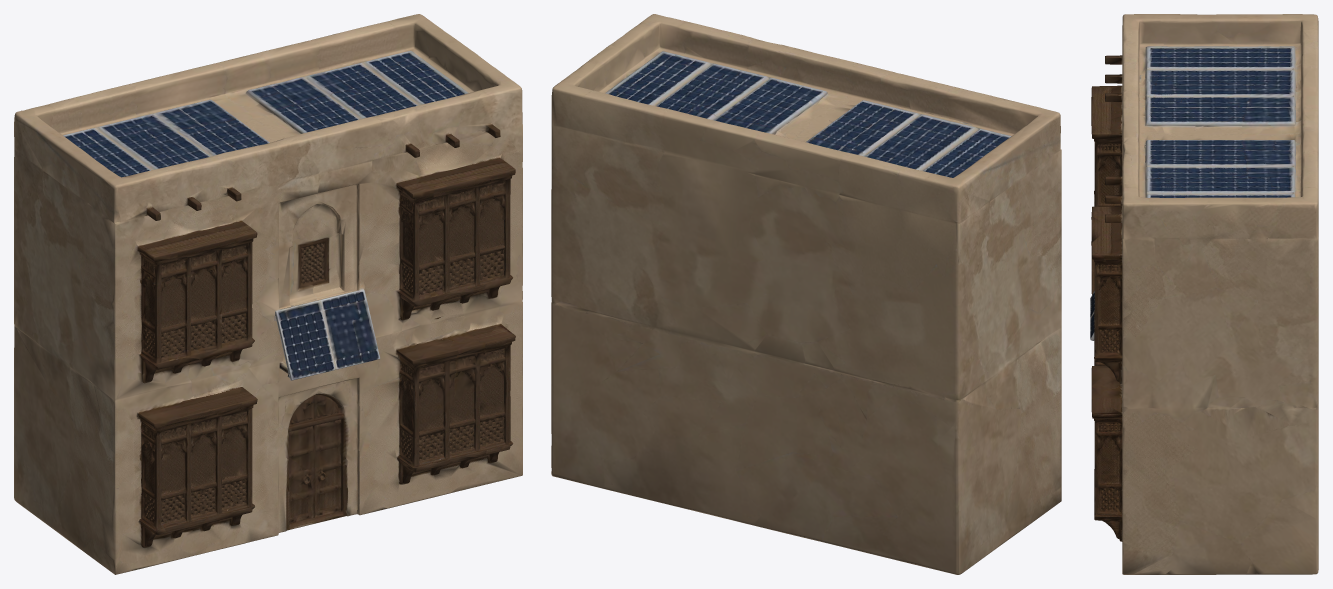
The model's file is heritage_lod1.glb.
3 views of the same model, side by side, from view 1: azimuth 30°, elevation 25°; view 2: azimuth 150°, elevation 25°; view 3: azimuth 270°, elevation 25° (orthographic). The views are drawn at different scales.
Visible parts, largest first — view 1: mesh_node; view 2: mesh_node; view 3: mesh_node.
Boxes of the visible parts, x1,y1,x2,y2 form: mesh_node: (14,14,522,574); mesh_node: (551,14,1061,574); mesh_node: (1090,14,1318,574).
Size of the model in its own units: 1.9 by 1.73 by 0.9643.
Materials: 1 (1 with a texture image).
